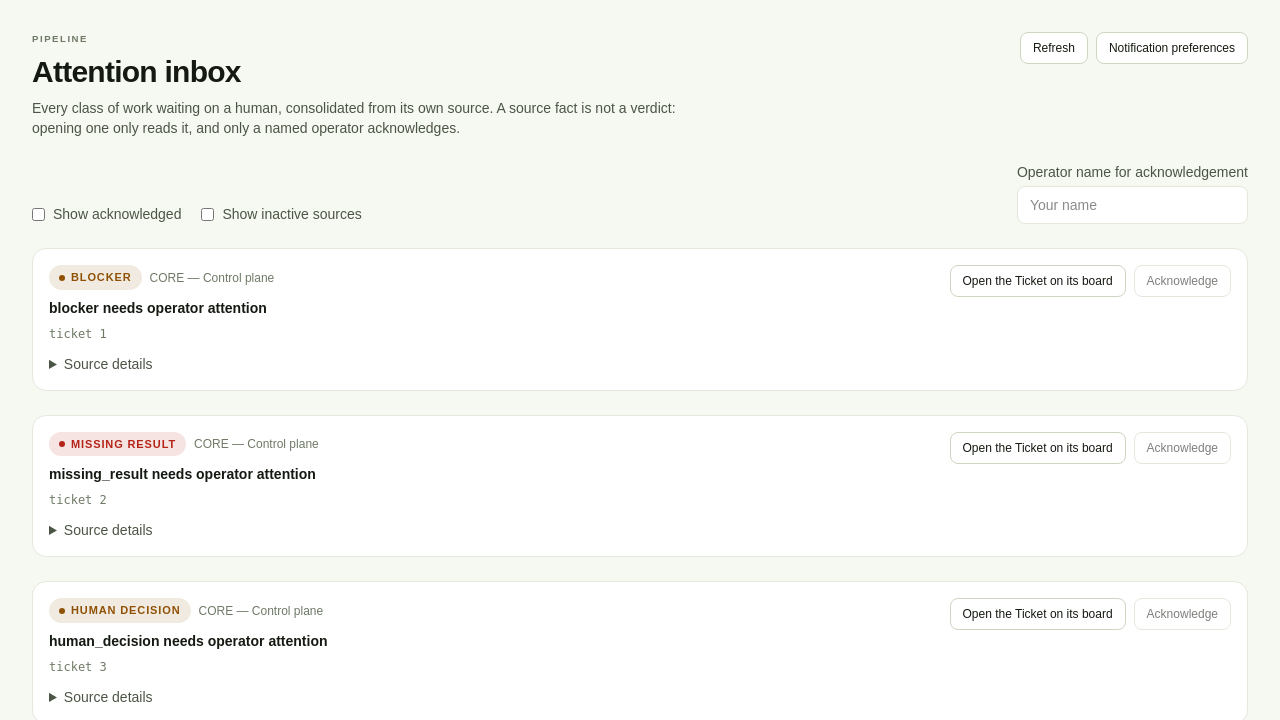
Test: attention-inbox › acknowledges only the chosen item after an explicit named action
Type "Operator A" into the field with test id "attention-who". click: (1132, 205)
box: [1017,186,1248,224]
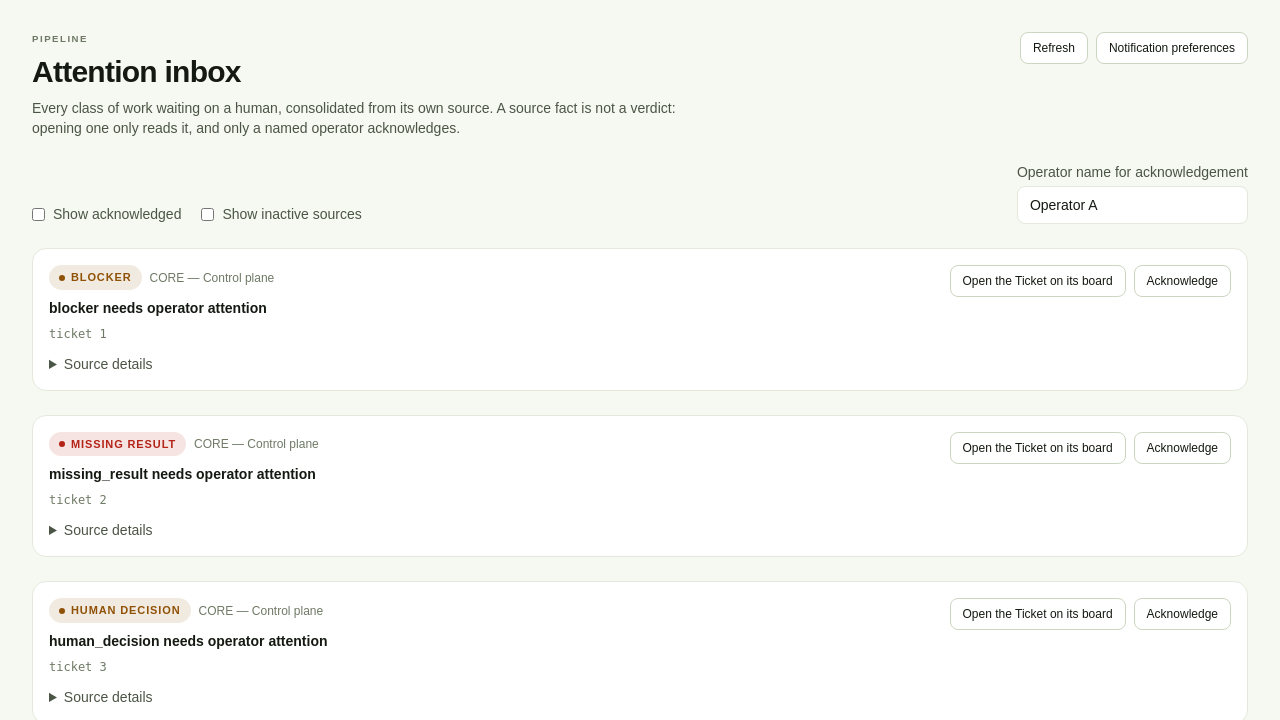
Now the button with test id "attention-ack" is enabled
Click the button with test id "attention-ack". click: click(1182, 281)
box: [1134,265,1231,297]
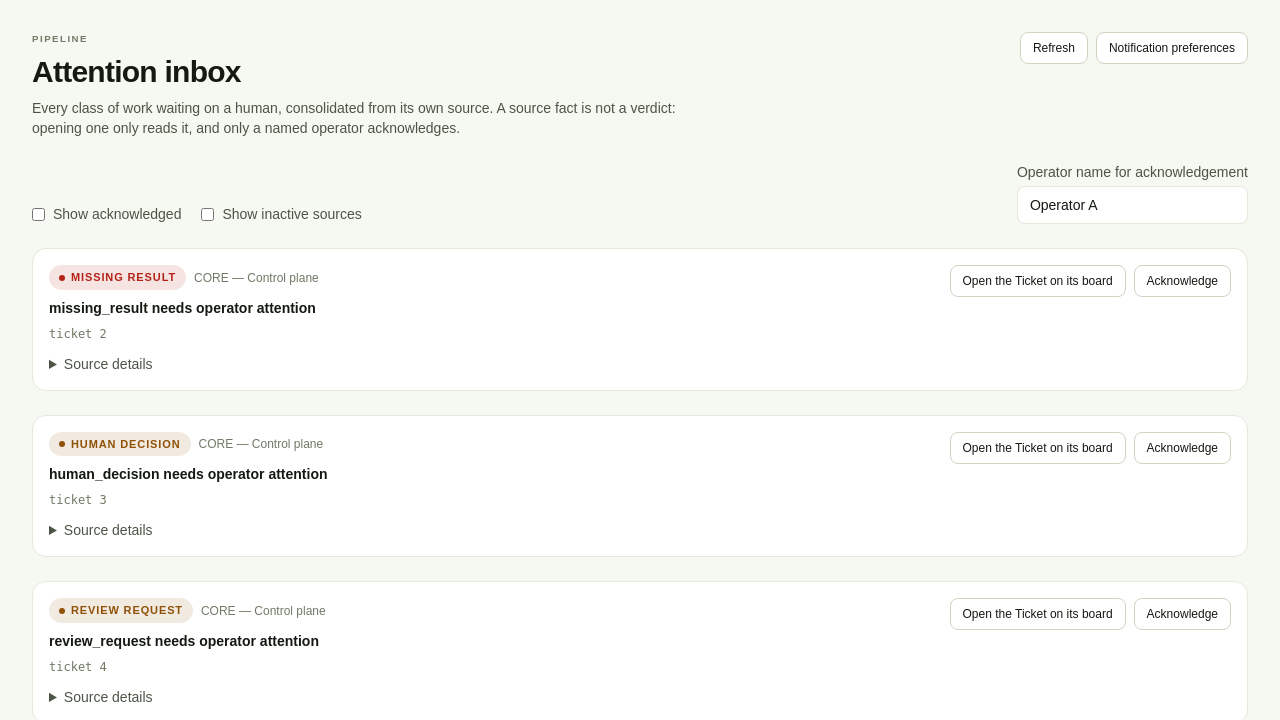
Now the number of elements with test id "attention-item" is 7
